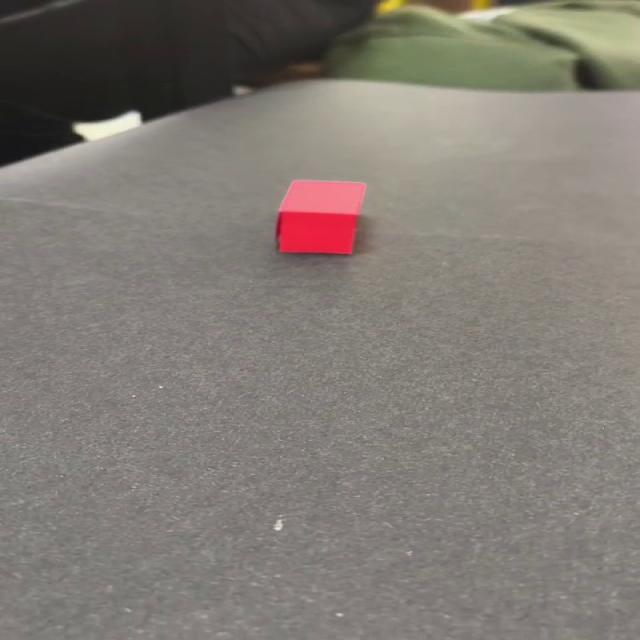red block: (273, 178, 367, 255)
